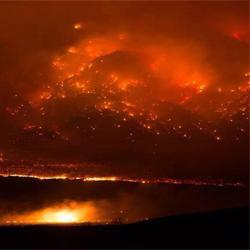fire: (31, 206, 93, 226)
